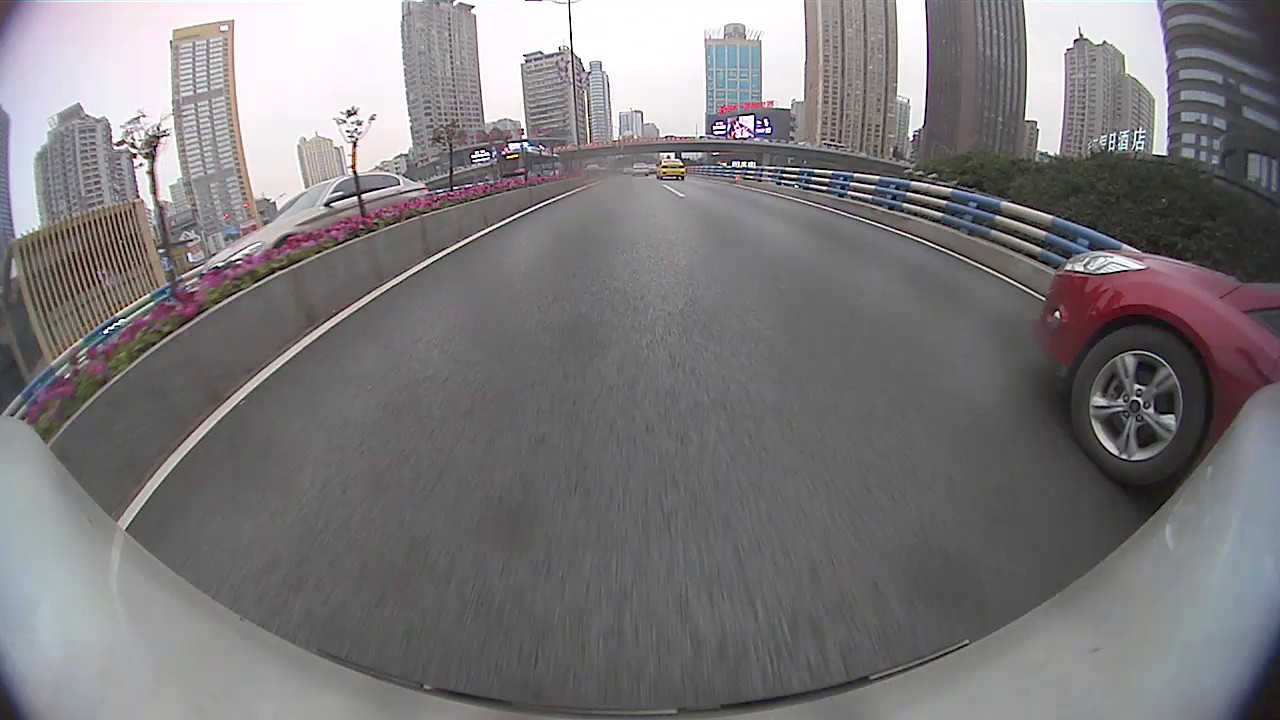bus: (493, 140, 567, 188)
car: (1031, 243, 1277, 518), (193, 166, 433, 287), (653, 154, 689, 183), (631, 160, 651, 178)
front: (1066, 327, 1212, 492)
